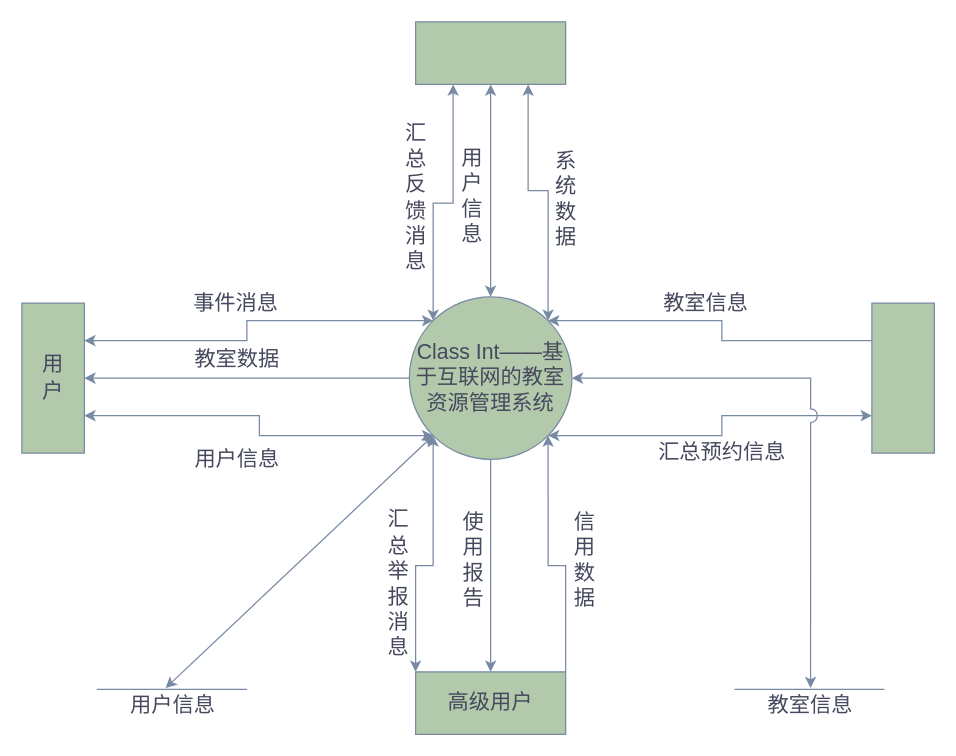
This 956x756 diagram has some shape labels left out. Each missing label, with the box of its shape:
审 核 管 理 员: (871, 302, 934, 453)
系统管理员: (414, 21, 566, 84)
